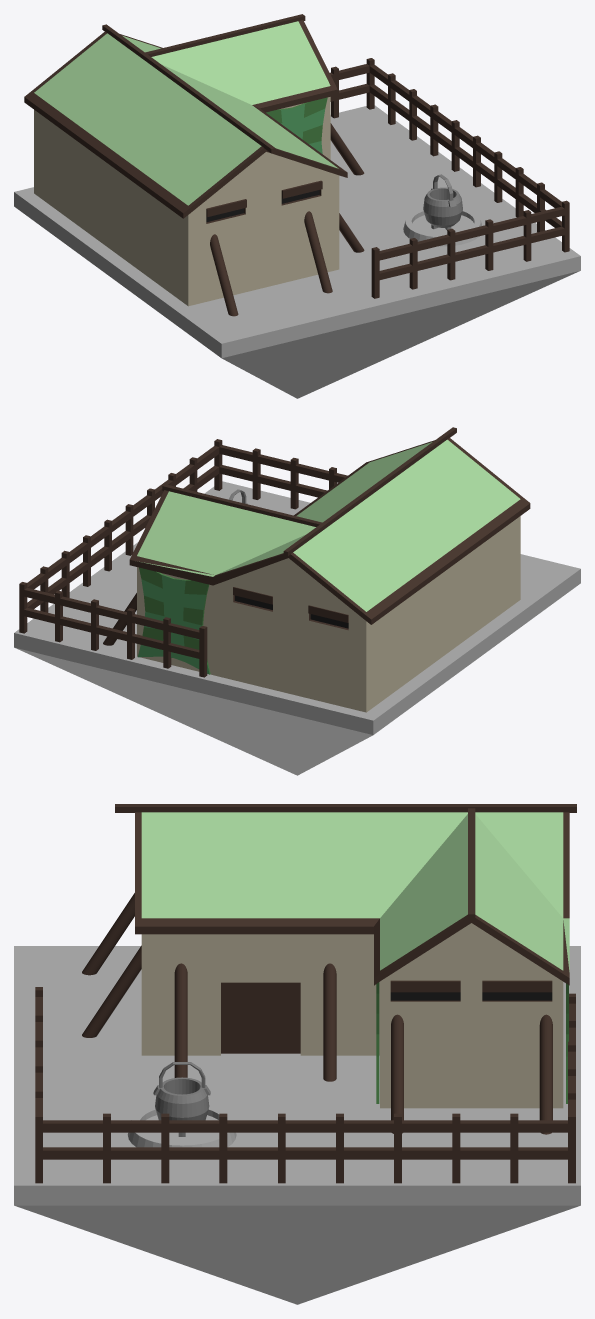
Rendered from Building House T1.fbx.
3 renders of one model, top to bottom at view 1: azimuth 30°, elevation 25°; view 2: azimuth 150°, elevation 25°; view 3: azimuth 270°, elevation 25°, orthographic. The views are drawn at different scales.
Visible parts, largest first — view 1: House T1; view 2: House T1; view 3: House T1.
Boxes of the visible parts, x1,y1,x2,y2 form: House T1: (14, 14, 580, 398); House T1: (14, 427, 580, 775); House T1: (14, 804, 580, 1304).
Size of the model in its own units: 1599 by 1366 by 1599.
